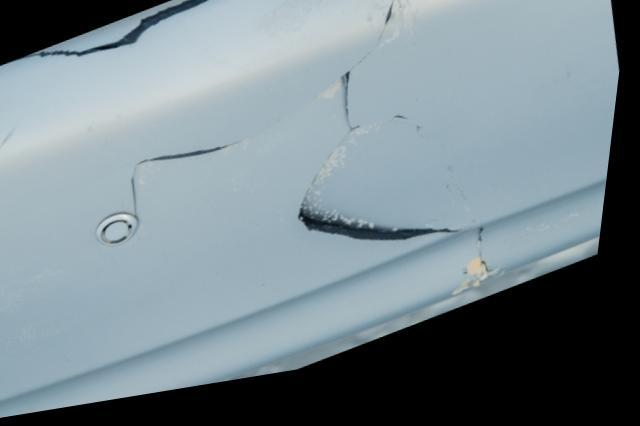crack: (133, 0, 500, 300)
